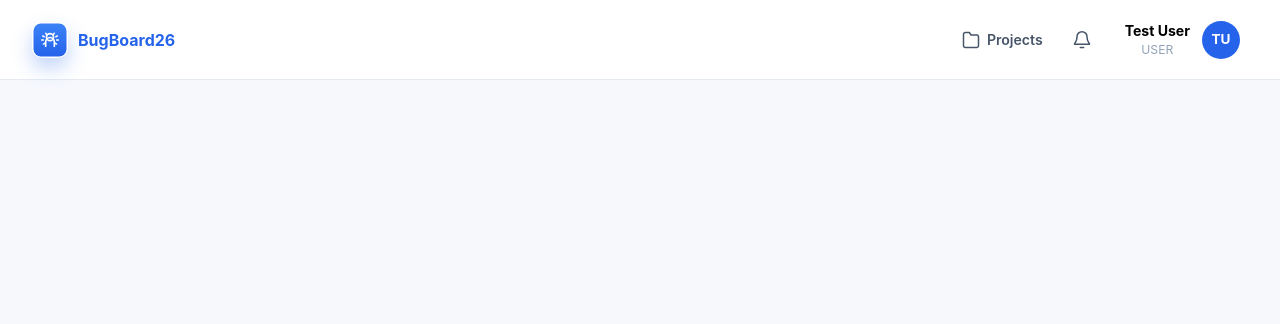
profile is a labelled disclosure with native links and buttons
Click the button "Test User USER TU" at (1181, 40), box [1115, 14, 1248, 65]
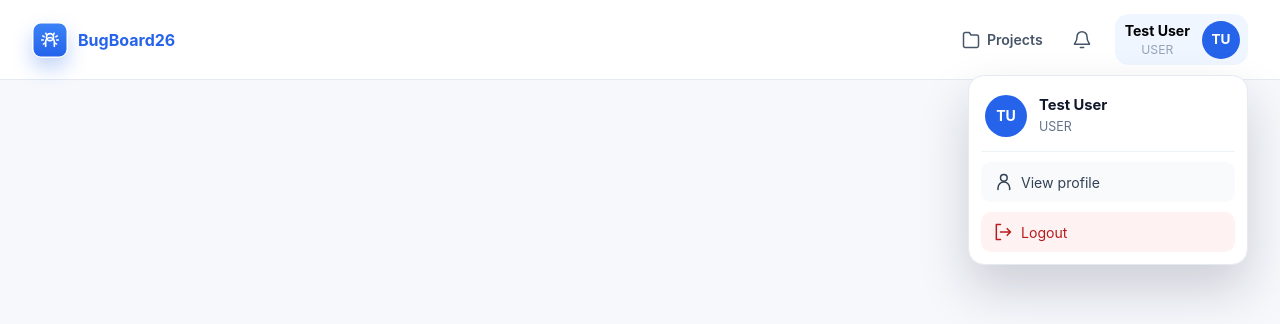
expect the link "View profile" is shown: met, box [981, 162, 1235, 202]
expect the button "Logout" is shown: met, box [981, 212, 1235, 252]
